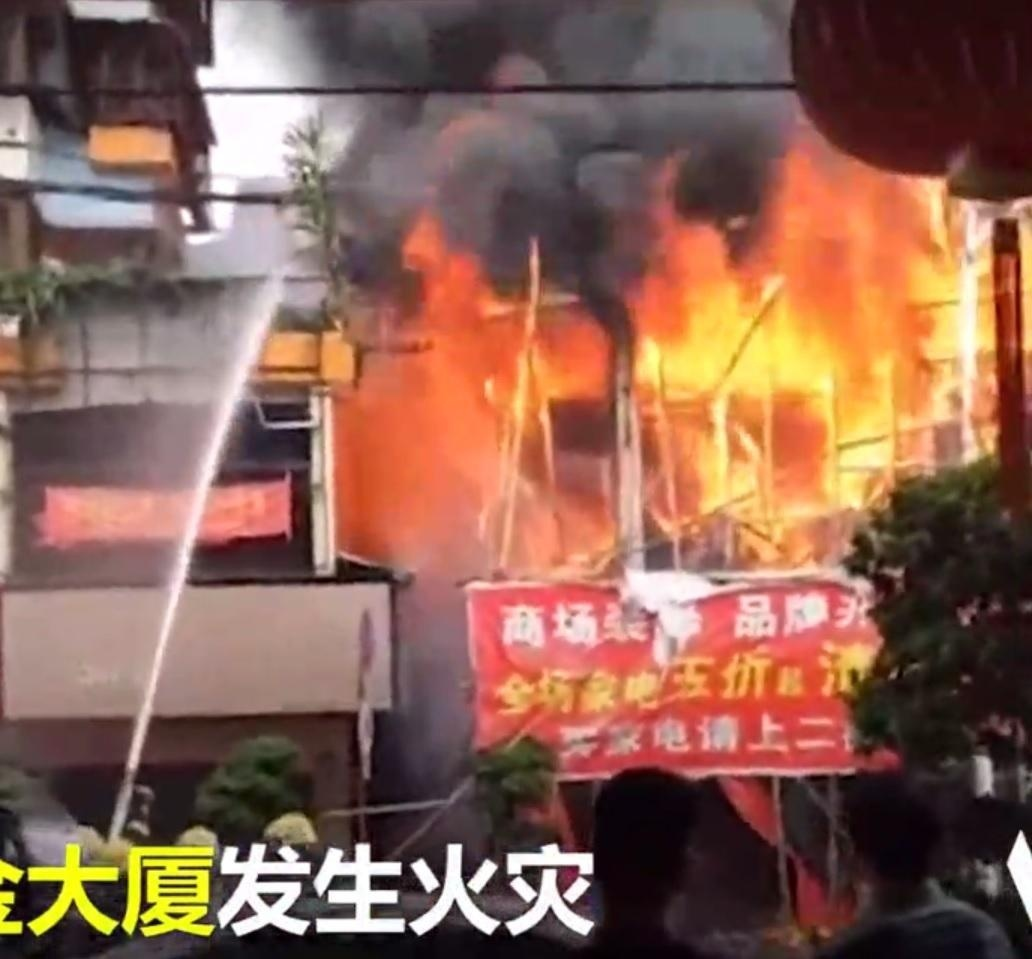fire: (429, 135, 993, 552)
